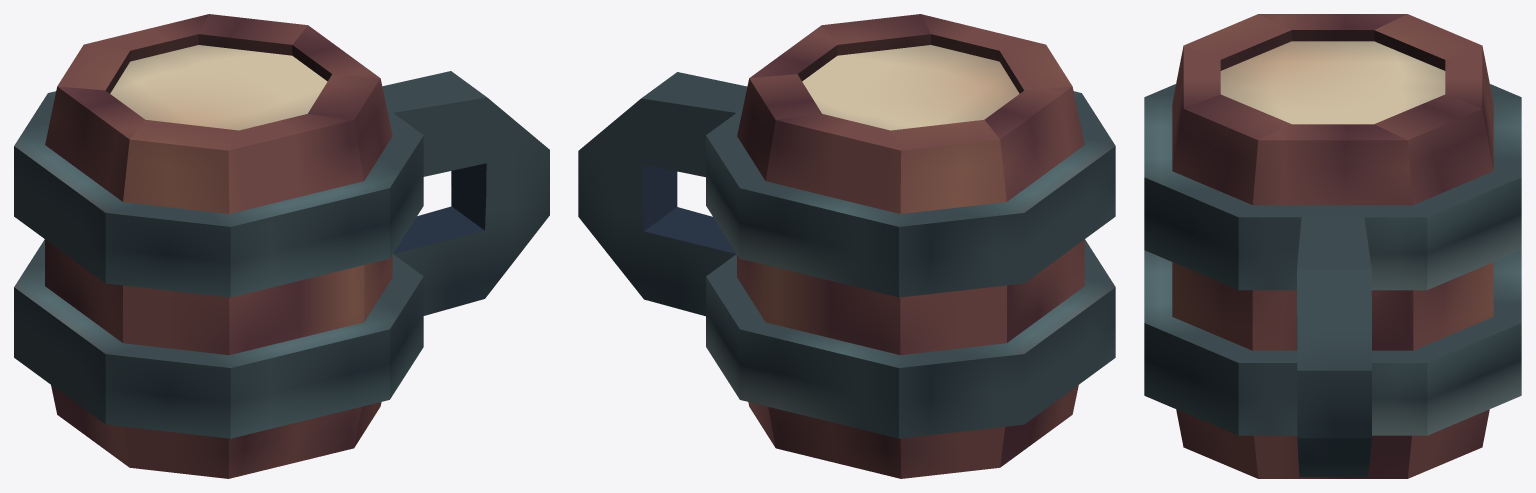
Rendered from Mug.fbx.
3 views of the same model, side by side, from view 1: azimuth 30°, elevation 25°; view 2: azimuth 150°, elevation 25°; view 3: azimuth 270°, elevation 25° (orthographic). The views are drawn at different scales.
Visible parts, largest first — view 1: Mug, Fill; view 2: Mug, Fill; view 3: Mug, Fill.
Part boxes in pixels (x1=…): Mug: x1=14, y1=14, x2=549, y2=478; Fill: x1=110, y1=45, x2=327, y2=130; Mug: x1=578, y1=14, x2=1115, y2=478; Fill: x1=802, y1=45, x2=1019, y2=130; Mug: x1=1144, y1=14, x2=1521, y2=478; Fill: x1=1220, y1=41, x2=1445, y2=124.
Size of the model in its own units: 0.471 by 0.3155 by 0.3125.
